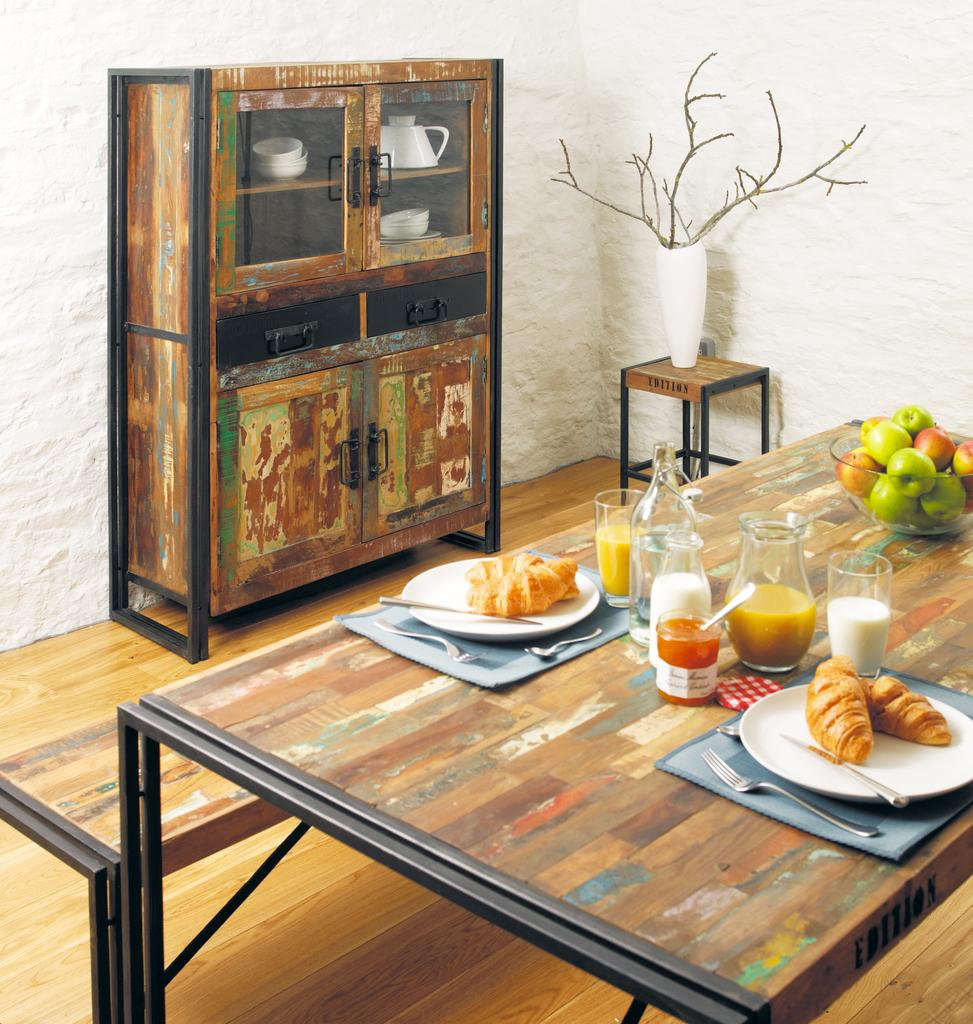cabinet_door: (218, 92, 364, 272), (221, 390, 364, 560), (364, 92, 490, 248), (364, 366, 488, 504), (222, 297, 354, 347), (368, 282, 490, 326)
handle: (398, 288, 462, 338), (260, 310, 328, 356), (370, 139, 399, 219), (333, 139, 364, 212), (332, 425, 362, 499), (367, 420, 396, 488)
